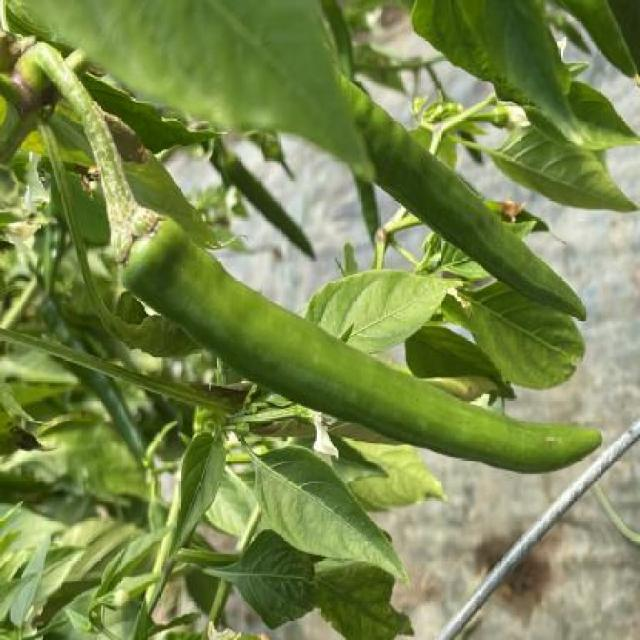green chilli: (111, 205, 603, 472)
